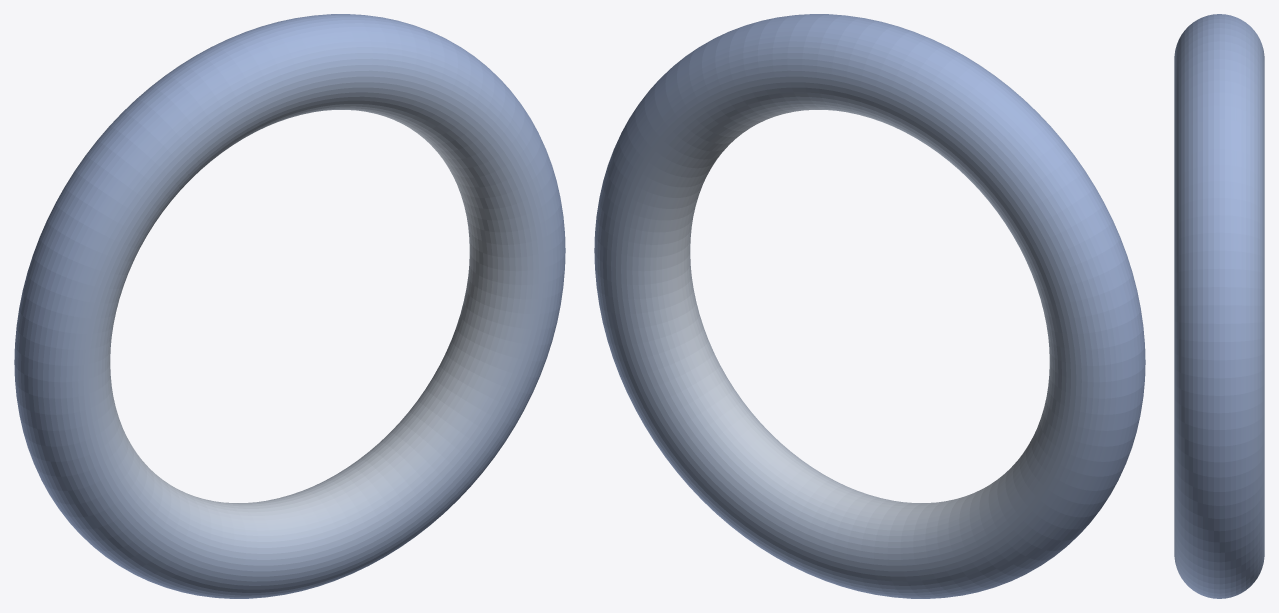
3 views of the same model, side by side, from view 1: azimuth 30°, elevation 25°; view 2: azimuth 150°, elevation 25°; view 3: azimuth 270°, elevation 25° (orthographic). The views are drawn at different scales.
Visible parts, largest first — view 1: world; view 2: world; view 3: world.
Part boxes in pixels (x1,y1,x2,y2): world: (14,14,565,598); world: (594,14,1145,598); world: (1174,14,1264,598).
Bounding box in the file's own units: 26.8 × 26.8 × 4.13.
